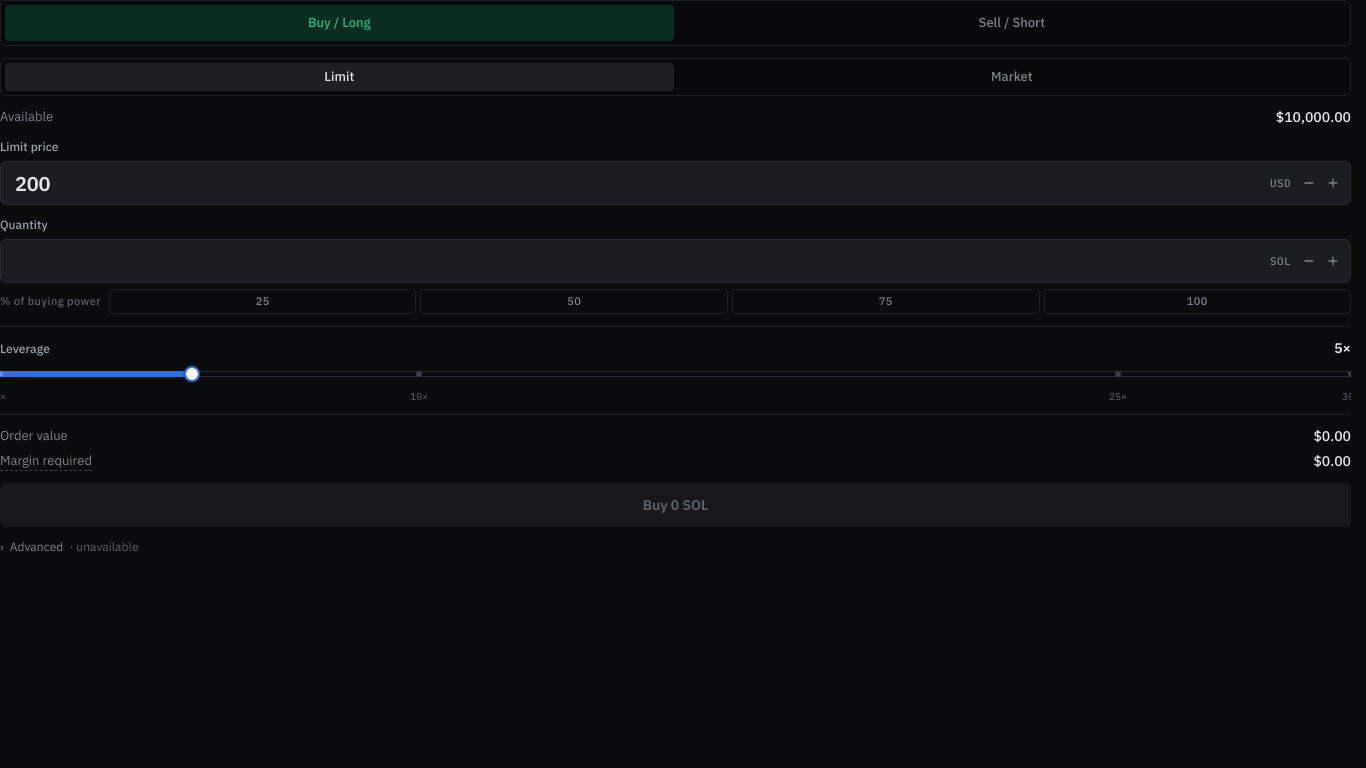
submitting an order › reports a full fill at the executed average price
Check: the text "$10,000.00" is shown, box top-left (1276, 108), bottom-right (1351, 127)
Step 1. Type "2" into the field labelled "Quantity" → (676, 261), box top-left (0, 239), bottom-right (1351, 283)
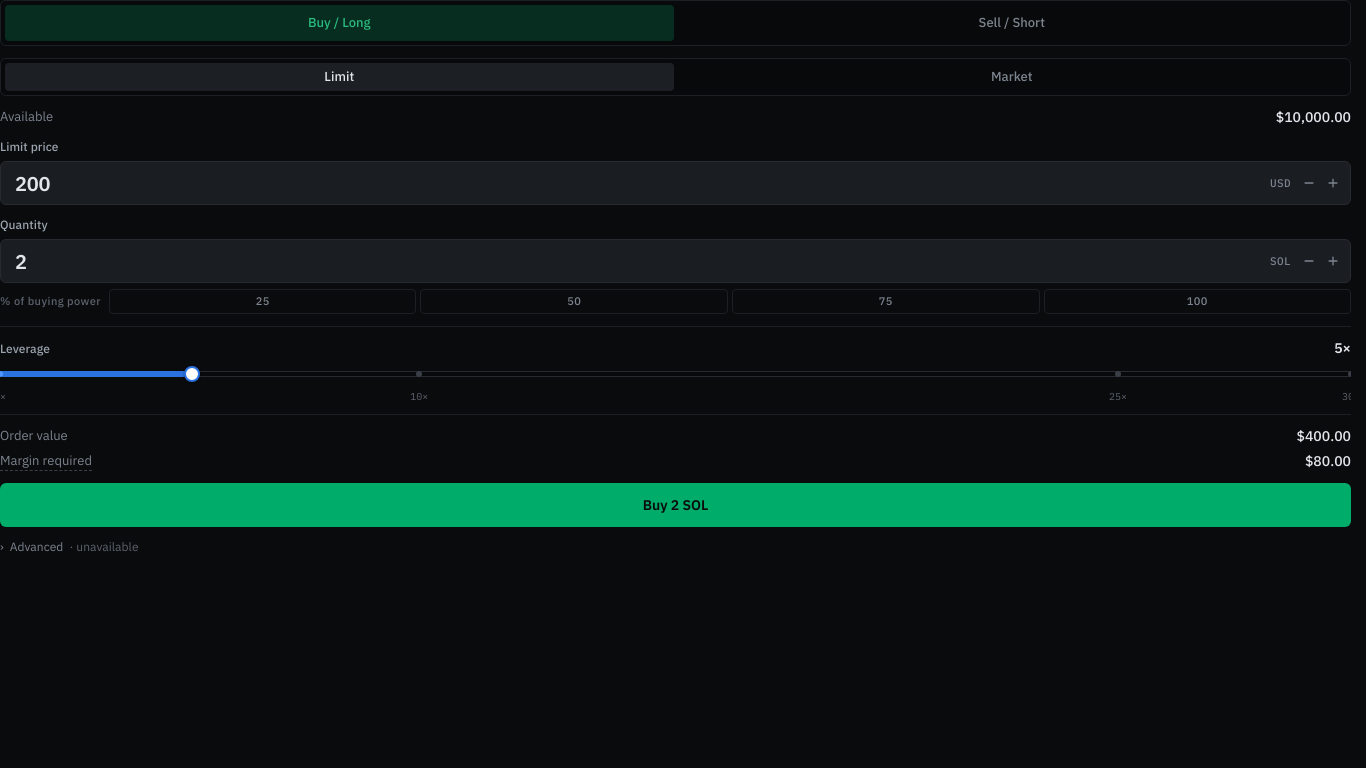
Step 2. Click the button "Buy 2 SOL" → click(676, 505), box top-left (0, 483), bottom-right (1351, 527)
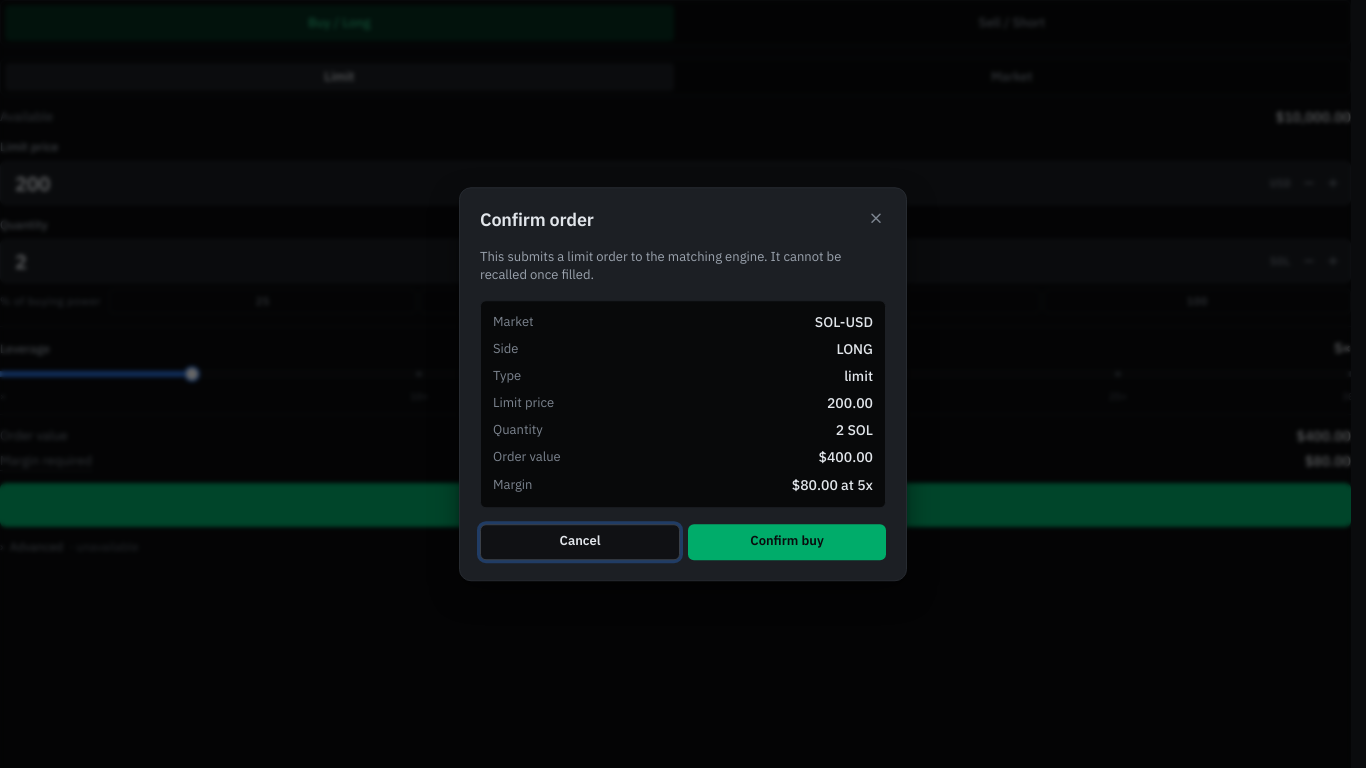
Check: the button "Confirm buy" is shown
Step 3. Click the button "Confirm buy" → click(787, 542), box top-left (688, 524), bottom-right (886, 560)
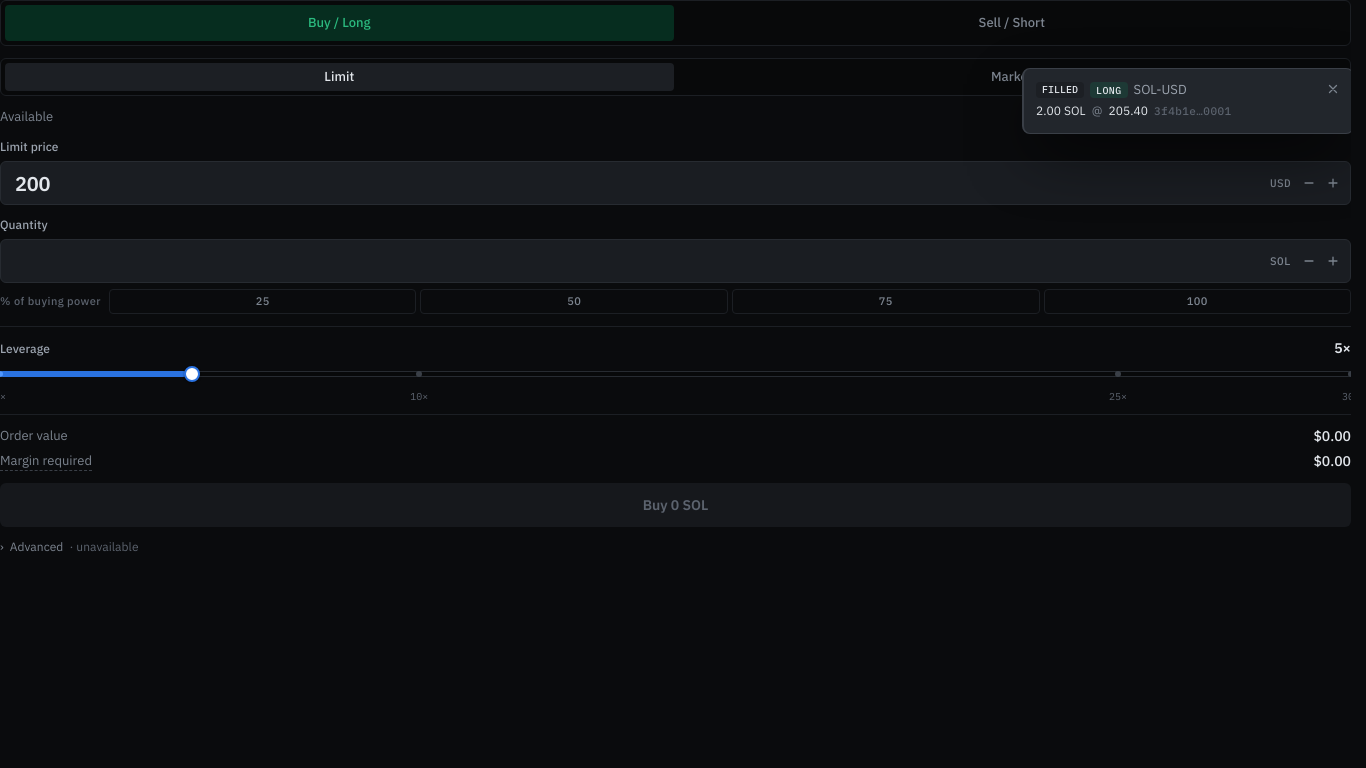
Check: the text "Filled" is shown, box top-left (1036, 82), bottom-right (1084, 98)
Check: the text "205.40" is shown, box top-left (1108, 101), bottom-right (1148, 121)
